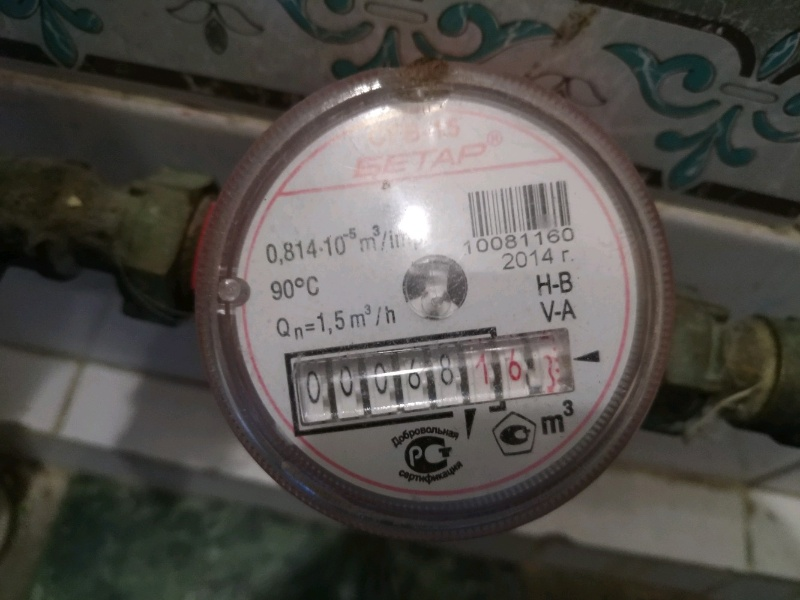meter: (283, 347, 574, 399)
